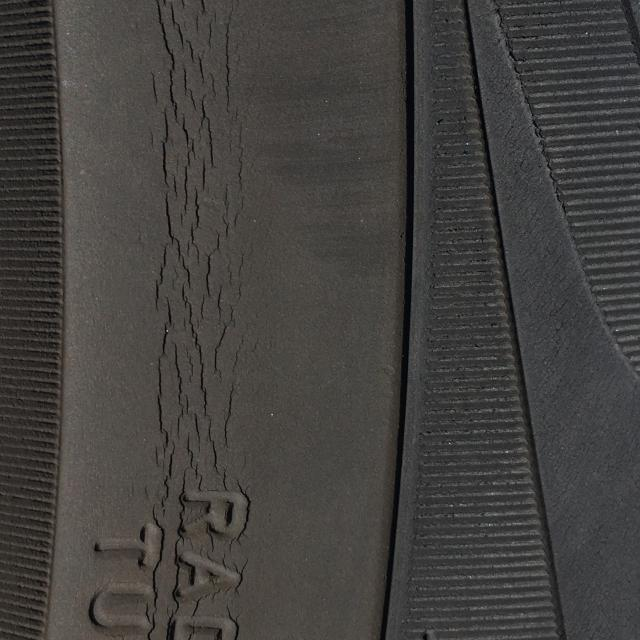Cracks: (128, 0, 274, 640)
Non-defective: (287, 0, 640, 640), (0, 0, 118, 640)
